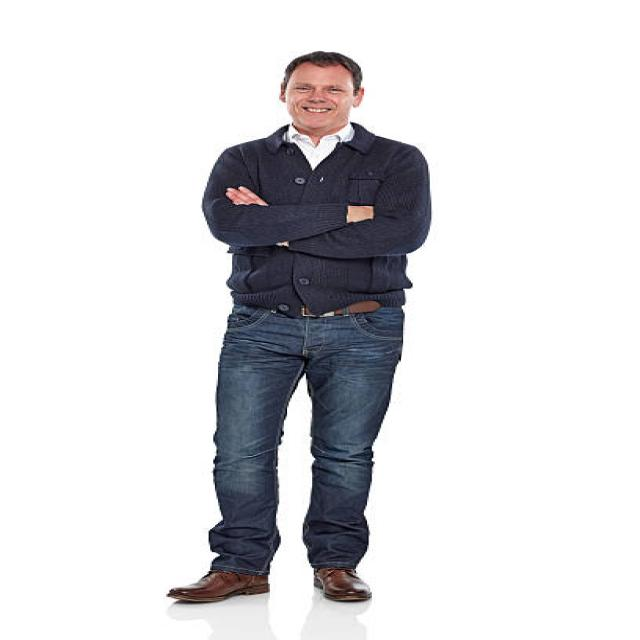Edited images: (173, 42, 424, 617)
